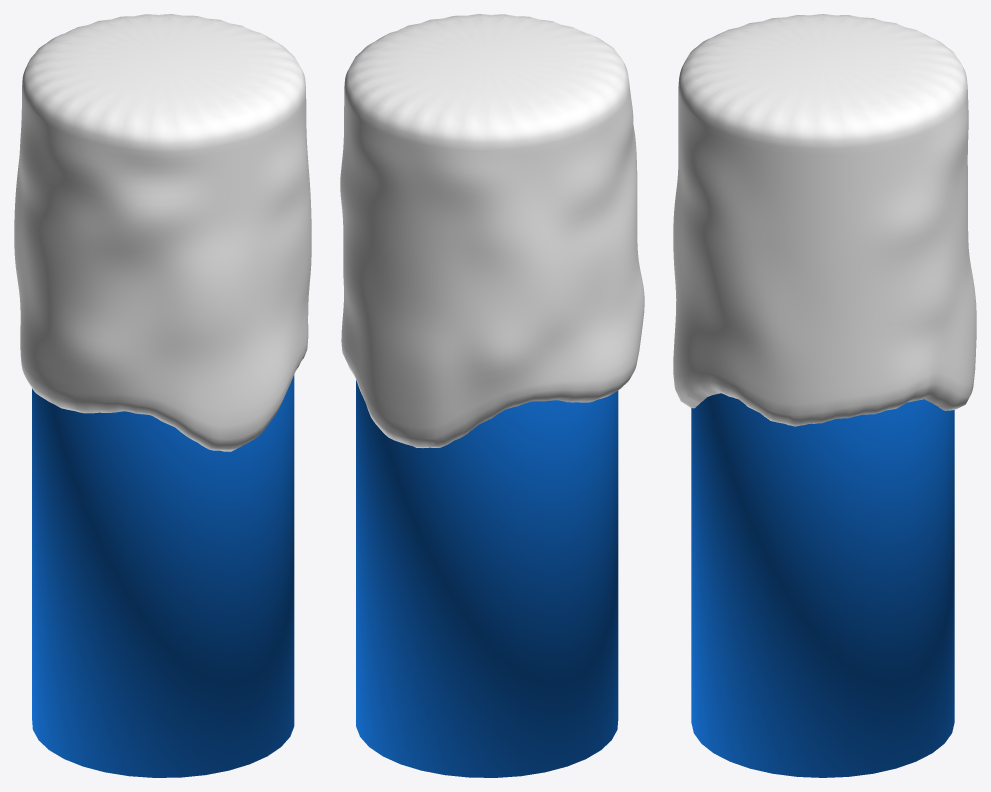
File: FreezeGrenadeNoPin.fbx
The picture shows the model from 3 angles, left to right: view 1: azimuth 30°, elevation 25°; view 2: azimuth 150°, elevation 25°; view 3: azimuth 270°, elevation 25°; orthographic projection.
Visible parts, largest first — view 1: Snow, FreezeGrenadeBody; view 2: Snow, FreezeGrenadeBody; view 3: Snow, FreezeGrenadeBody.
Boxes of the visible parts, x1,y1,x2,y2 form: Snow: (14,14,311,451); FreezeGrenadeBody: (32,375,294,777); Snow: (340,14,644,448); FreezeGrenadeBody: (356,380,618,777); Snow: (673,14,976,426); FreezeGrenadeBody: (691,393,954,777).
Size of the model in its own units: 226 by 557 by 230.
